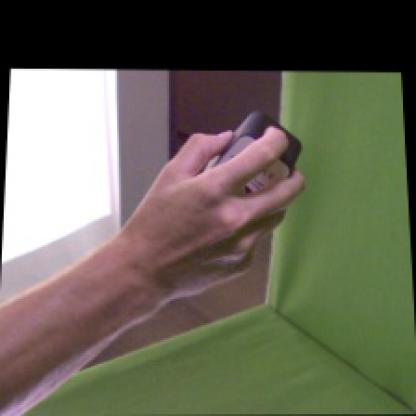Hand: (128, 124, 304, 299)
